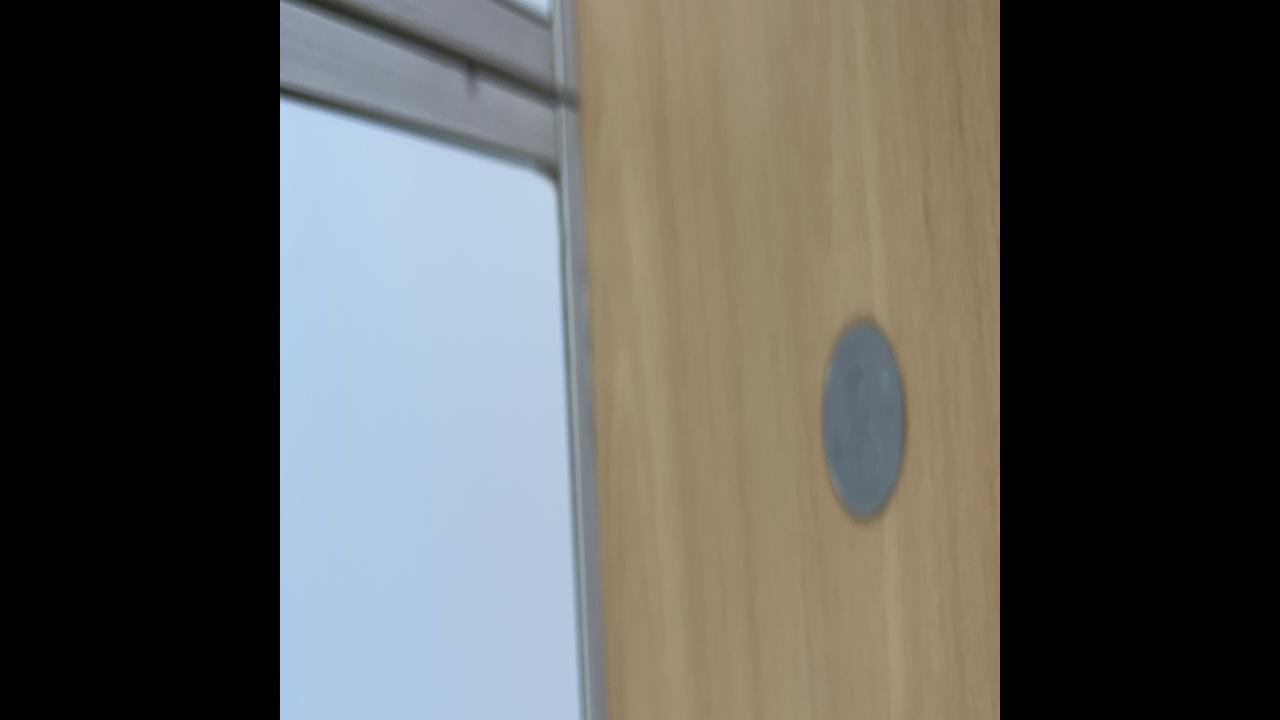coin: (818, 312, 906, 526)
